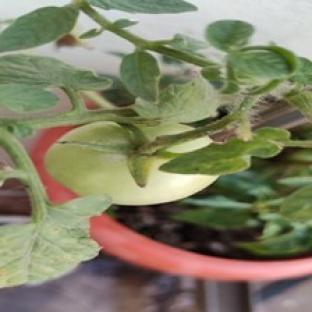Tomato: (45, 122, 217, 206)
